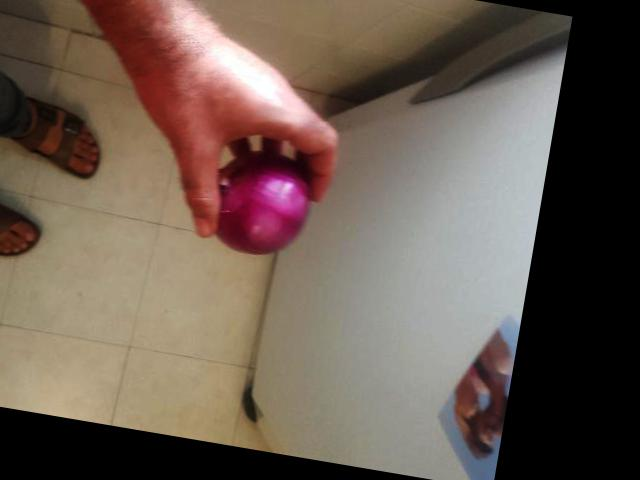onion: (193, 143, 314, 265)
